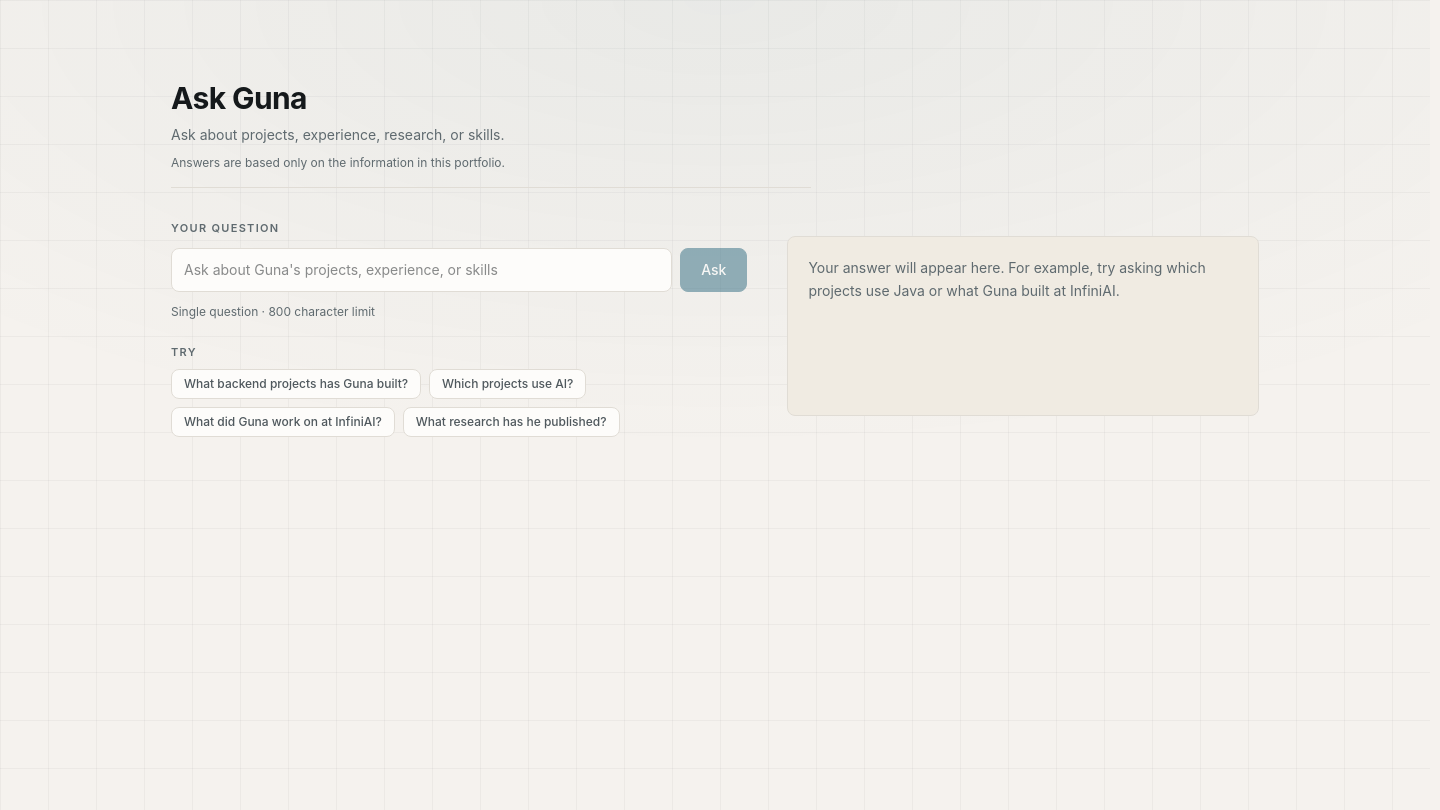
Scenario: A19 — Ask Guna failure safety › 20 — Ask Guna still works when the scene renders nothing
Type "does it still work?" into the field with id "ask-guna-input" at (422, 270), box [171, 248, 672, 292]
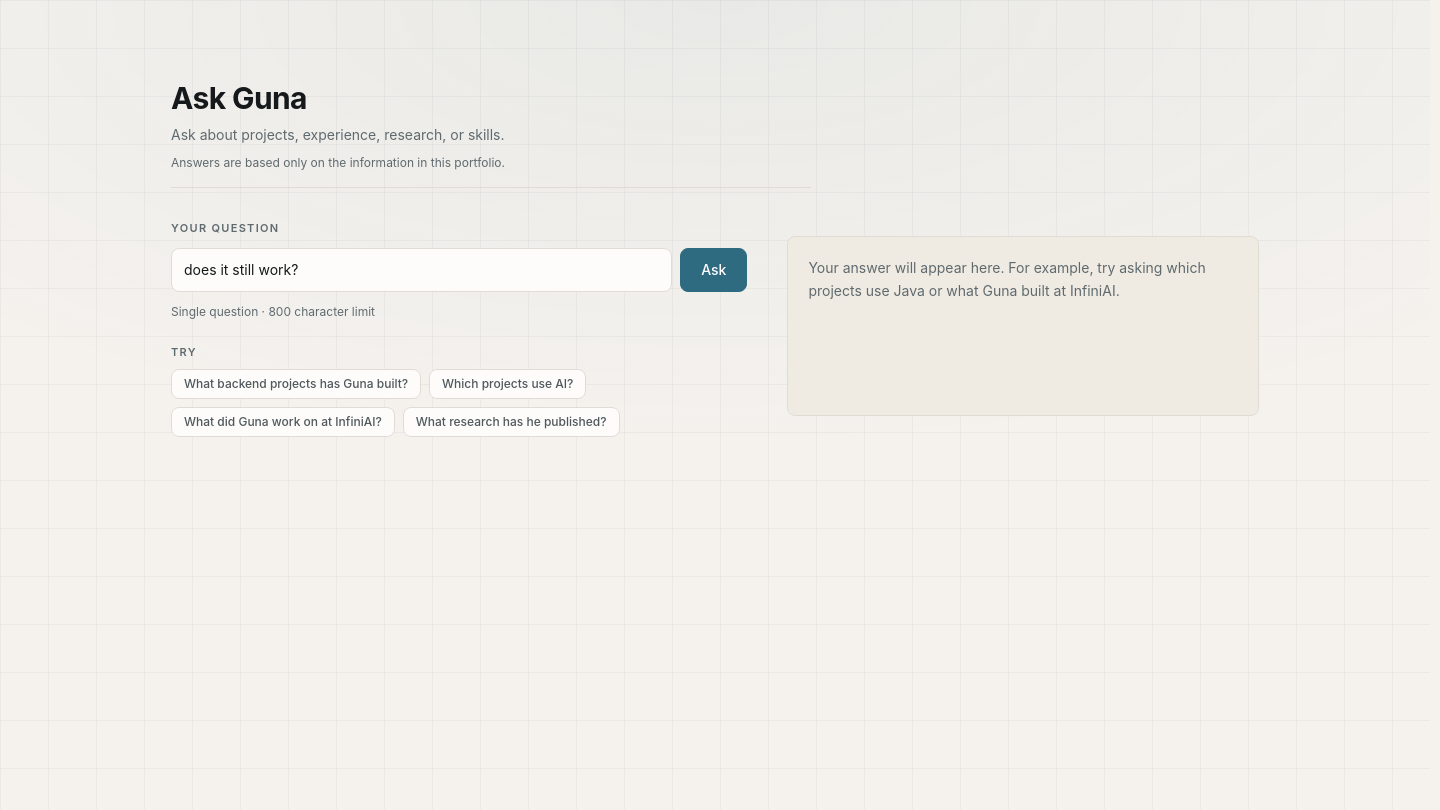
Submit the form, box [171, 220, 747, 320]
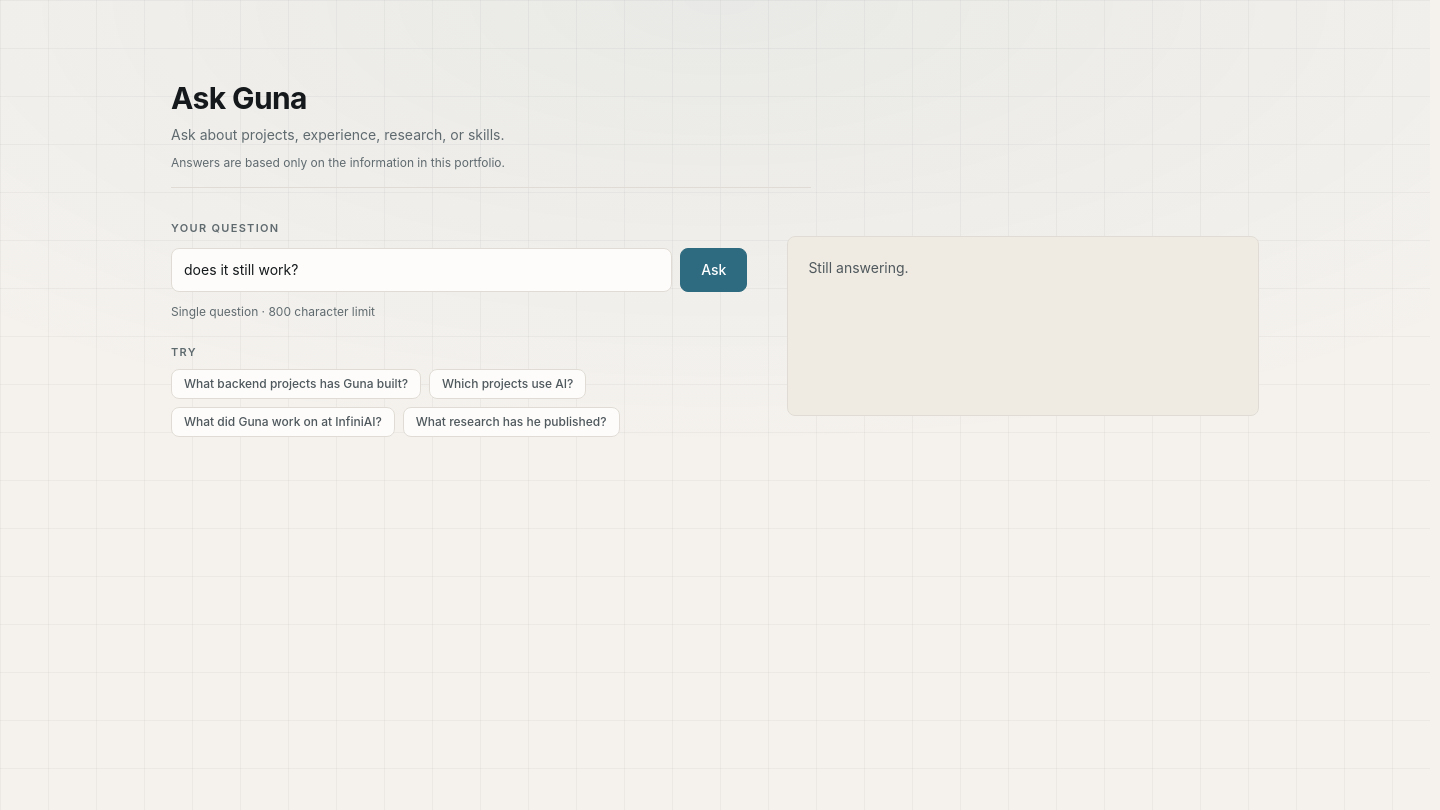
Expected: the text "Still answering." is shown, [808, 259, 909, 276]
